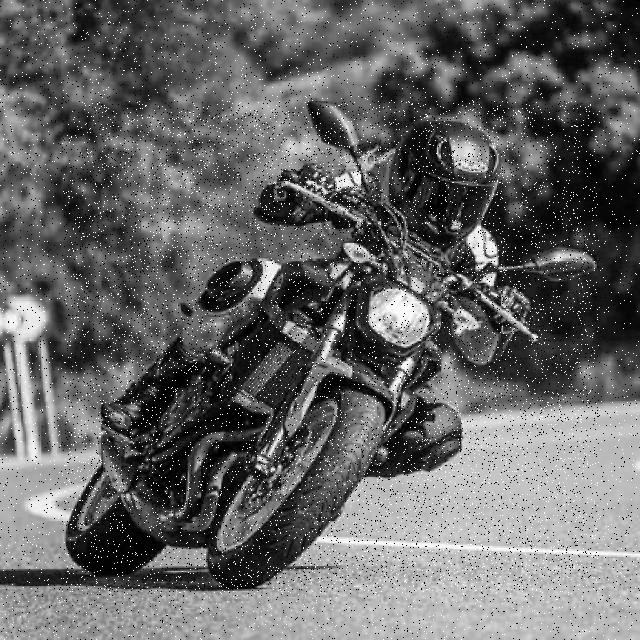Motorbike: (64, 101, 598, 592)
